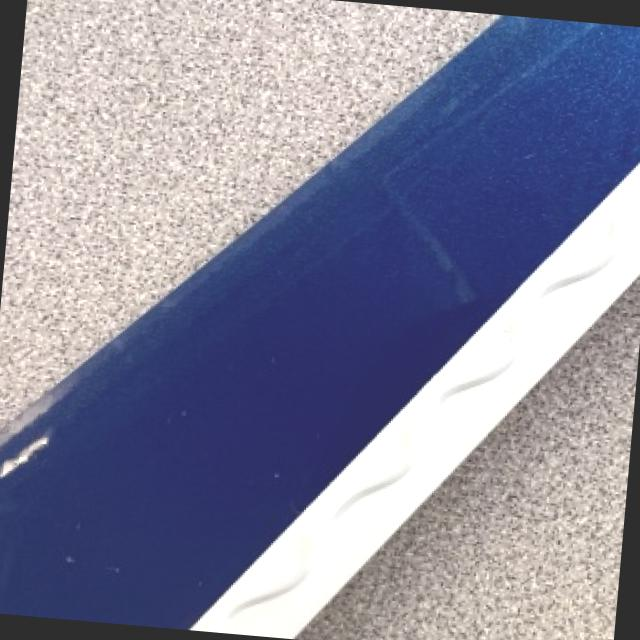healthy: (483, 575, 618, 640)
